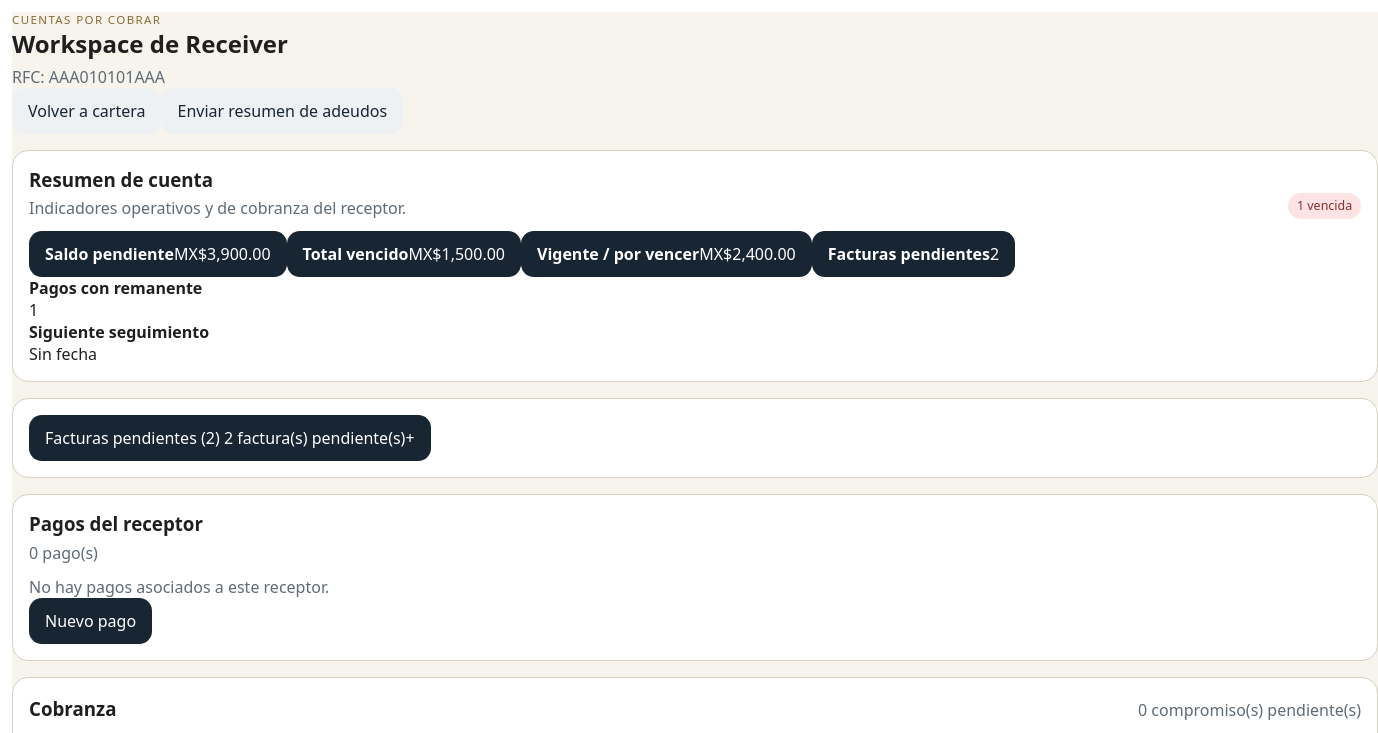
Test: AccountsReceivablePageComponent › returns to the full pending list when Facturas pendientes is selected after filtering overdue
Click the button with class "summary-card-action" showing "Total vencido MX$1,500.00".
click(404, 254)  # box [287,231,521,277]
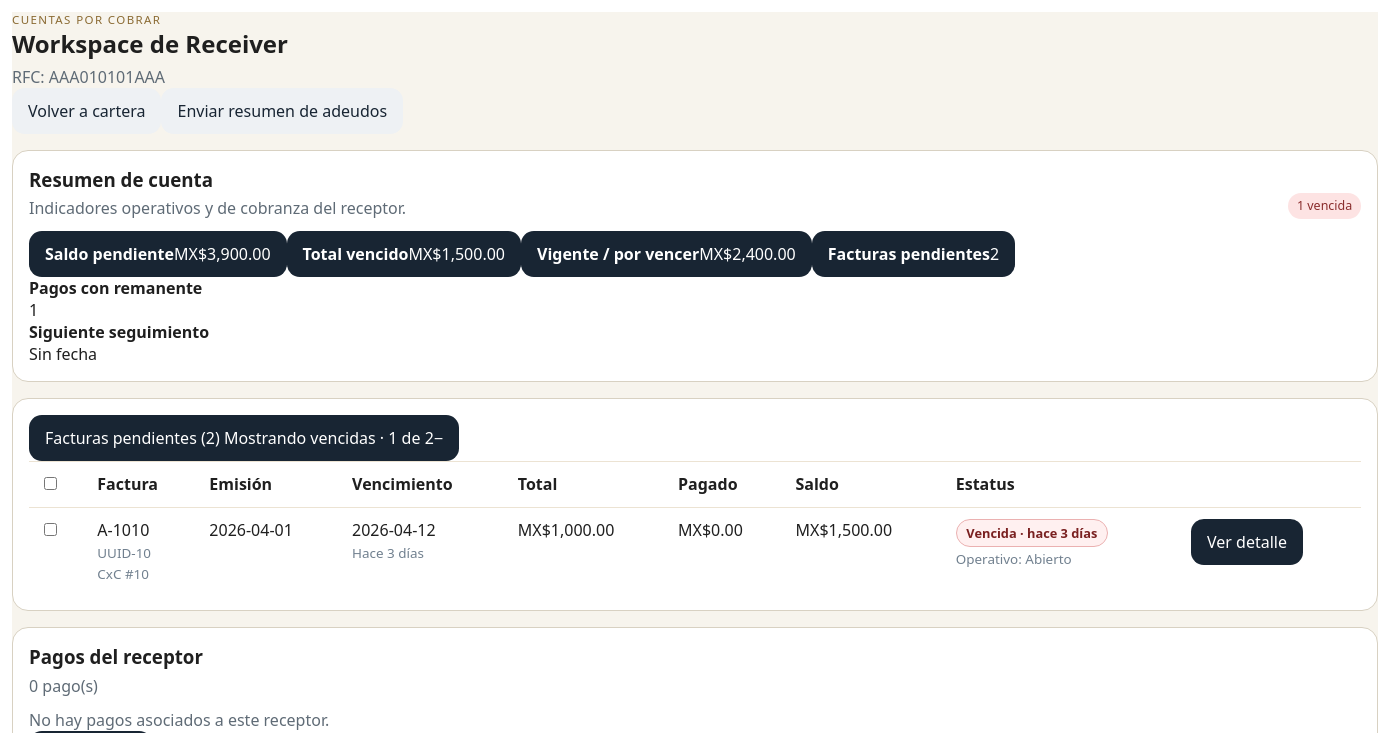
Click the button with class "summary-card-action" showing "Facturas pendientes 2".
click(913, 254)  # box [812,231,1015,277]
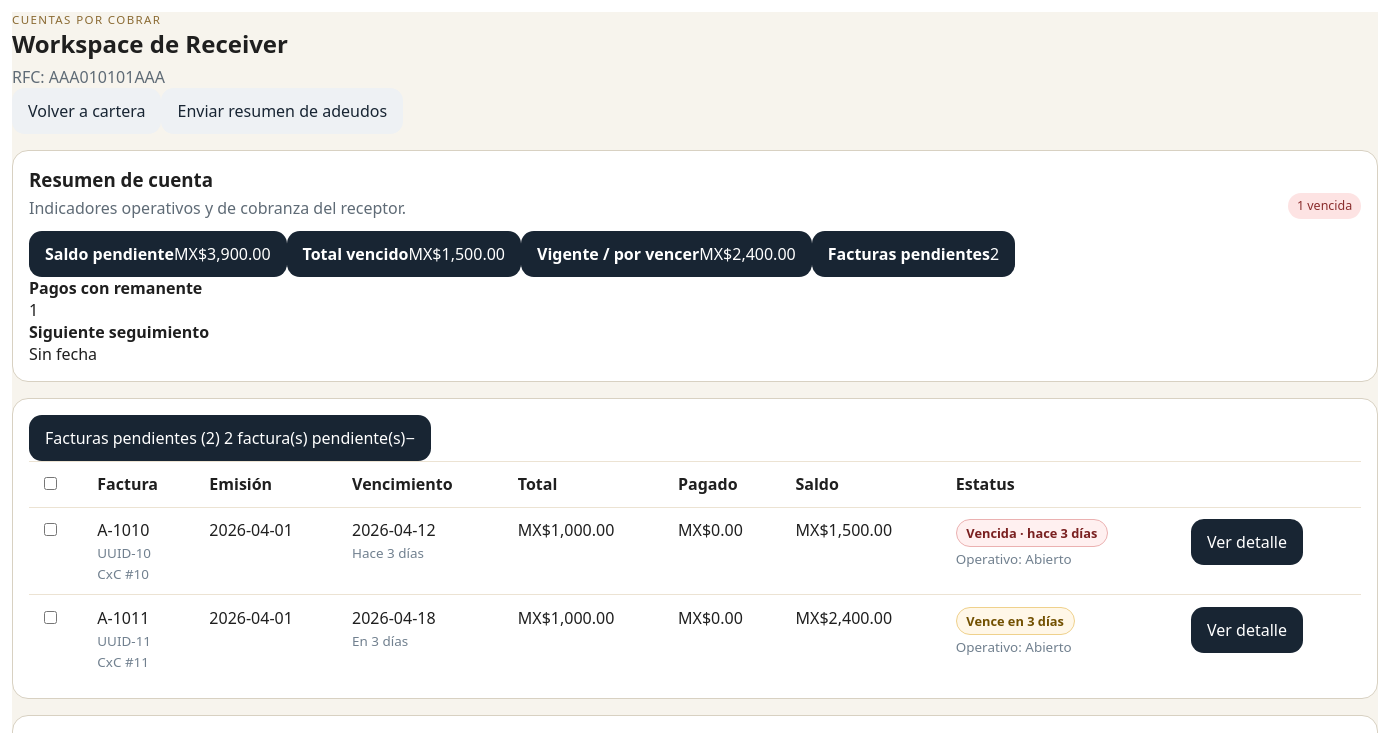
Expected: the row that starts with "A-1010" is shown, [97,519,149,541]
Expected: the text "2 factura(s) pendiente(s)" is shown, [224,427,405,449]
Expected: the row that starts with "A-1011" is shown, [97,606,149,628]
